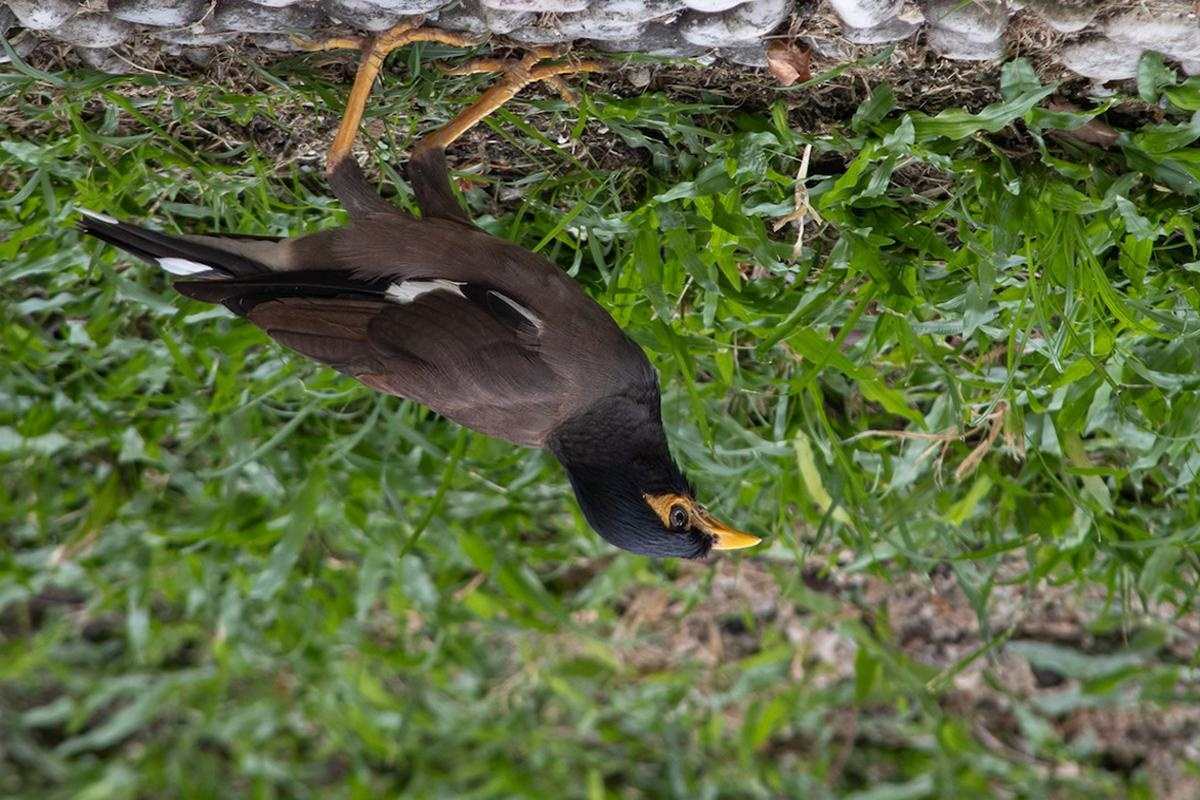myna: (165, 70, 797, 668)
